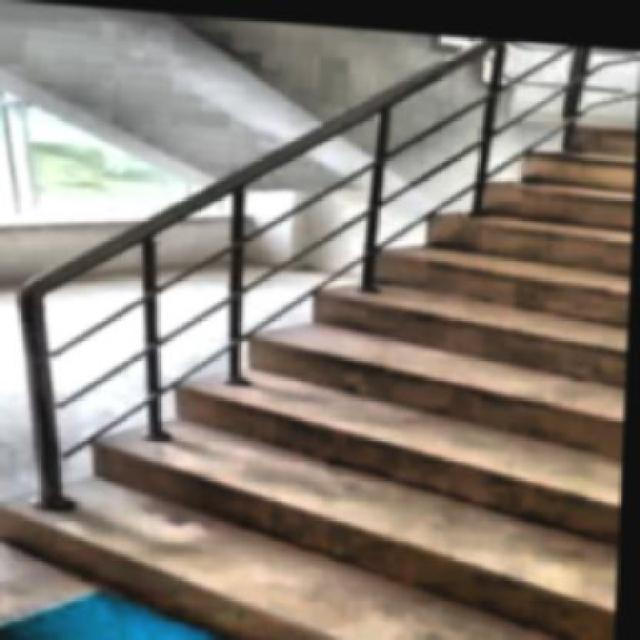stair: (15, 71, 637, 638)
